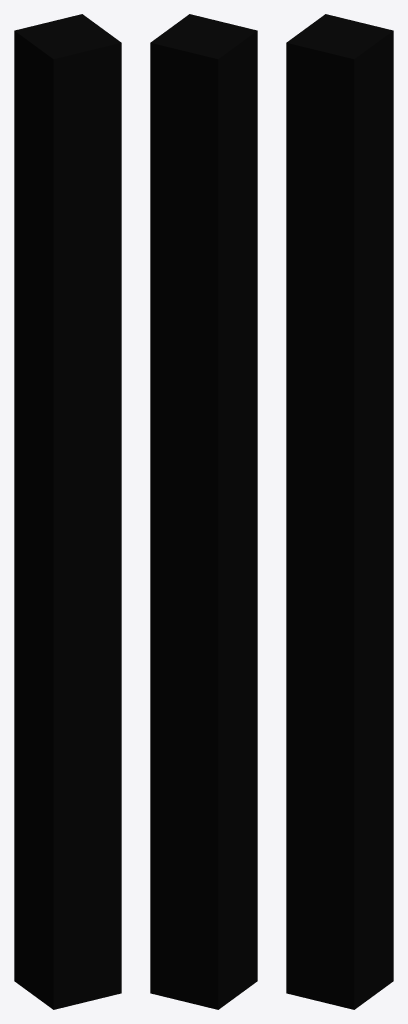
The model's file is pilar 1.FBX.
3 renders of one model, left to right at view 1: azimuth 30°, elevation 25°; view 2: azimuth 150°, elevation 25°; view 3: azimuth 330°, elevation 25°, orthographic.
Parts seen in each view (by area): view 1: Box001; view 2: Box001; view 3: Box001.
Boxes of the visible parts, box(x1,y1,x2,y2) form: Box001: box(14, 14, 121, 1009); Box001: box(150, 14, 257, 1009); Box001: box(286, 14, 393, 1009).
Size of the model in its own units: 2 by 26.71 by 2.
